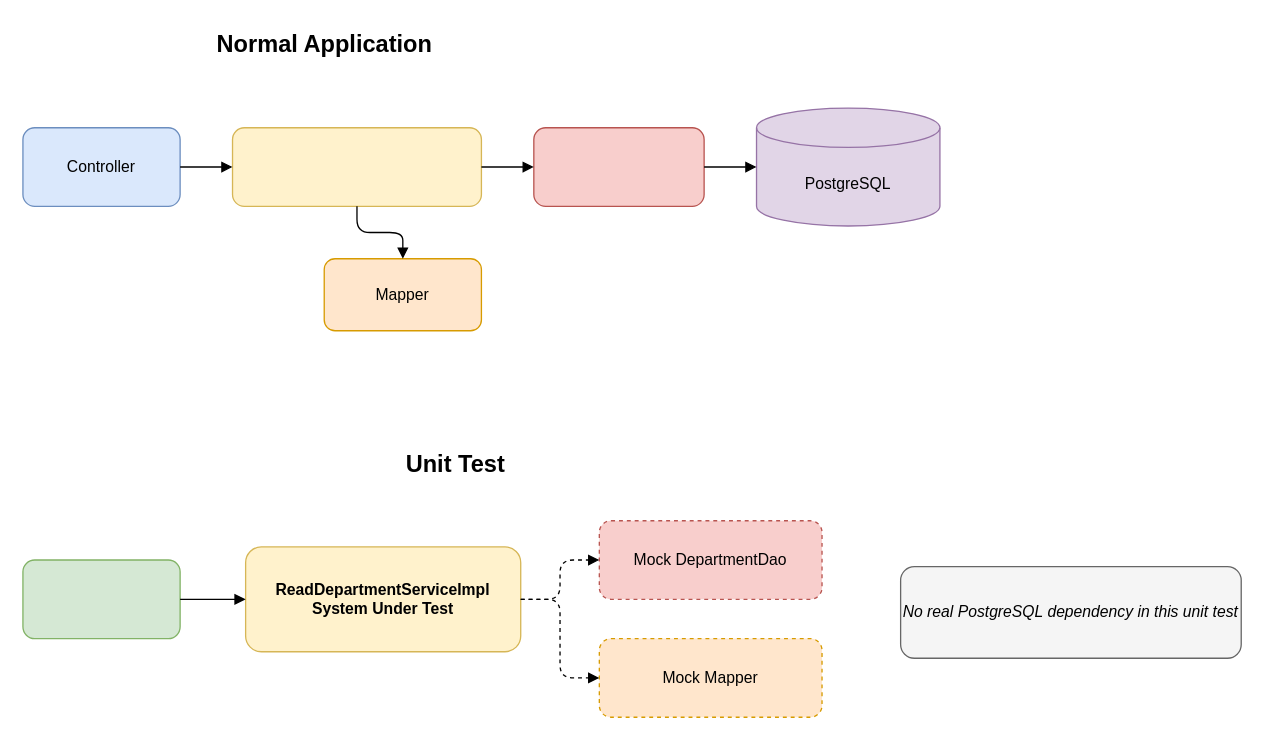
Some shapes in this 1264 by 740 pixel diagram are drawn without their labels. Each missing label, with the centre of its shape:
DepartmentDao: the point at 618,166
JUnit: the point at 101,599
ReadDepartmentServiceImpl: the point at 356,166
